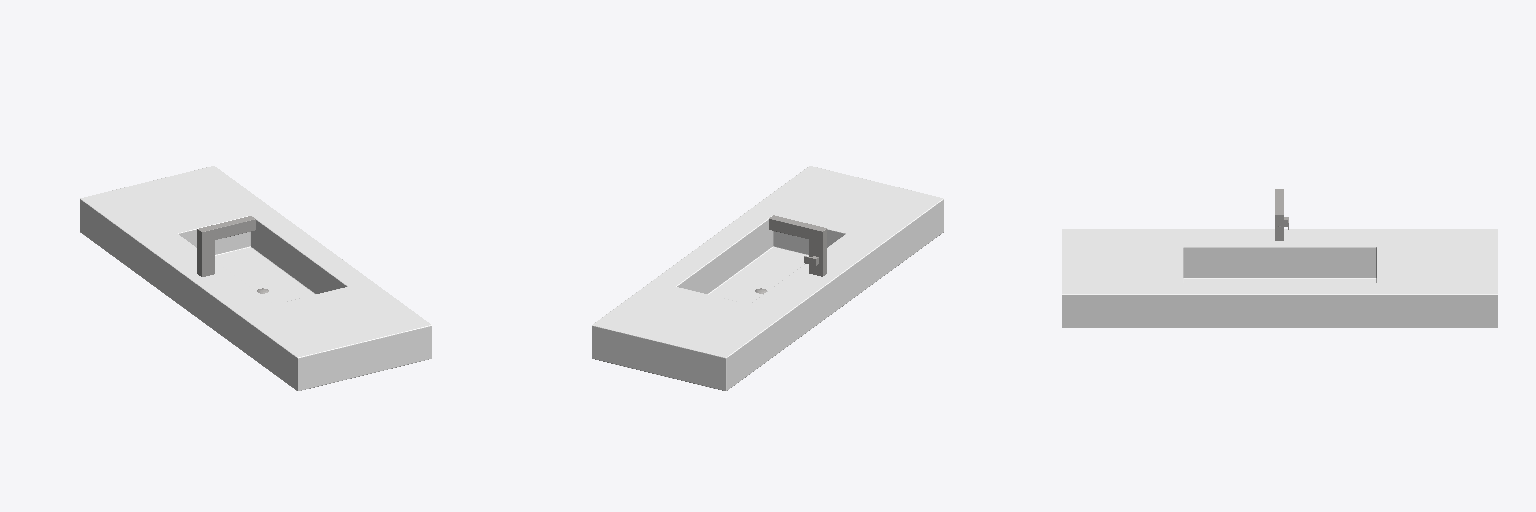
File: lavandino.obj
The picture shows the model from 3 angles: view 1: azimuth 30°, elevation 25°; view 2: azimuth 150°, elevation 25°; view 3: azimuth 270°, elevation 25°; orthographic projection.
Visible parts, largest first — view 1: Solido1; view 2: Solido1; view 3: Solido1.
Boxes of the visible parts, x1,y1,x2,y2 form: Solido1: [80, 166, 431, 390]; Solido1: [592, 166, 943, 390]; Solido1: [1062, 189, 1497, 327].
Size of the model in its own units: 500 by 280 by 1400.